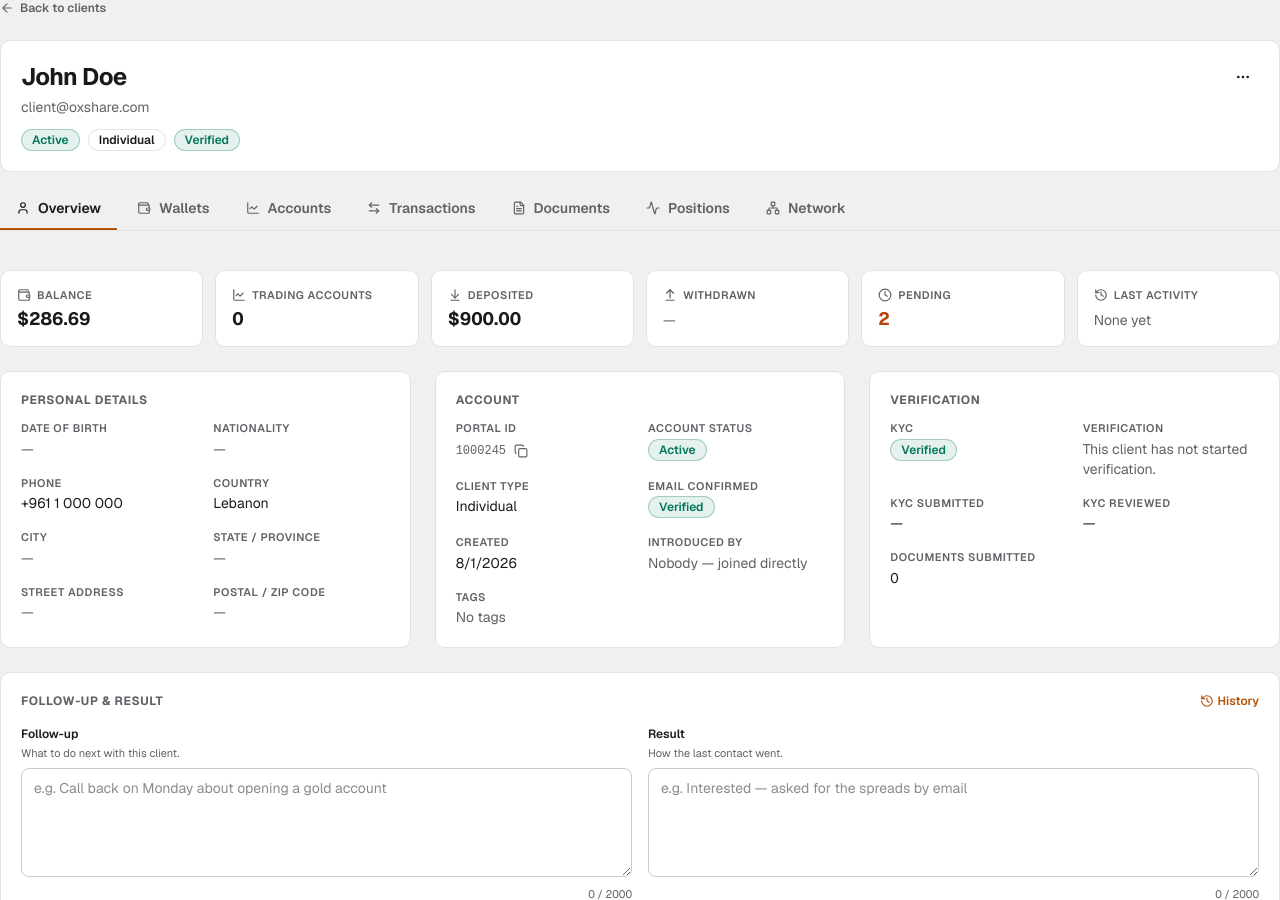
Scenario: CORE-18 on an ordinary client › opens the Edit profile dialog for a client who is NOT a partner
Check: the heading "John Doe" is shown, box [21,61,127,92]
Click the button named "actions for" at (1243, 77), box [1227,61,1259,93]
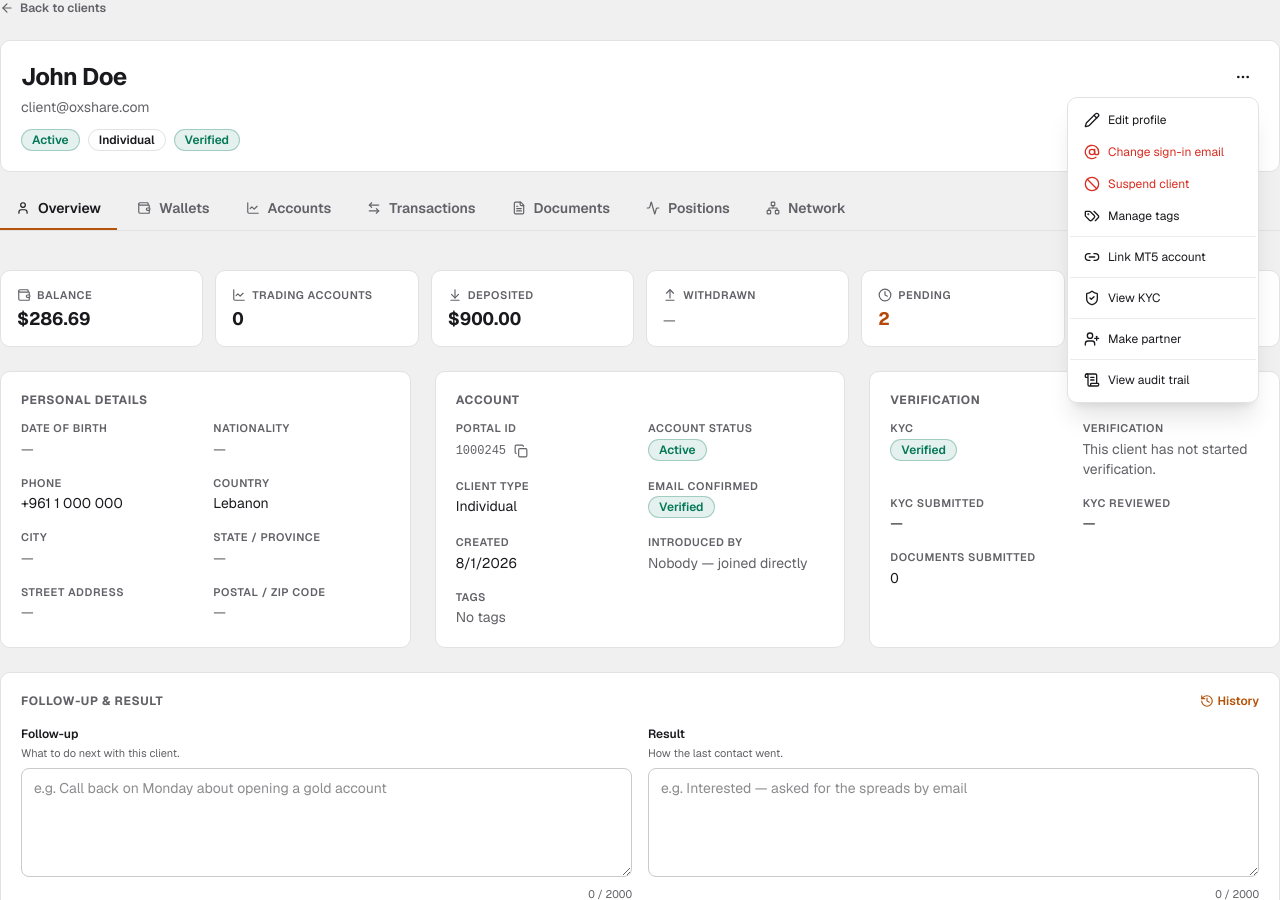
Click the menu item "Edit profile" at (1125, 120), box [1084,112,1167,128]
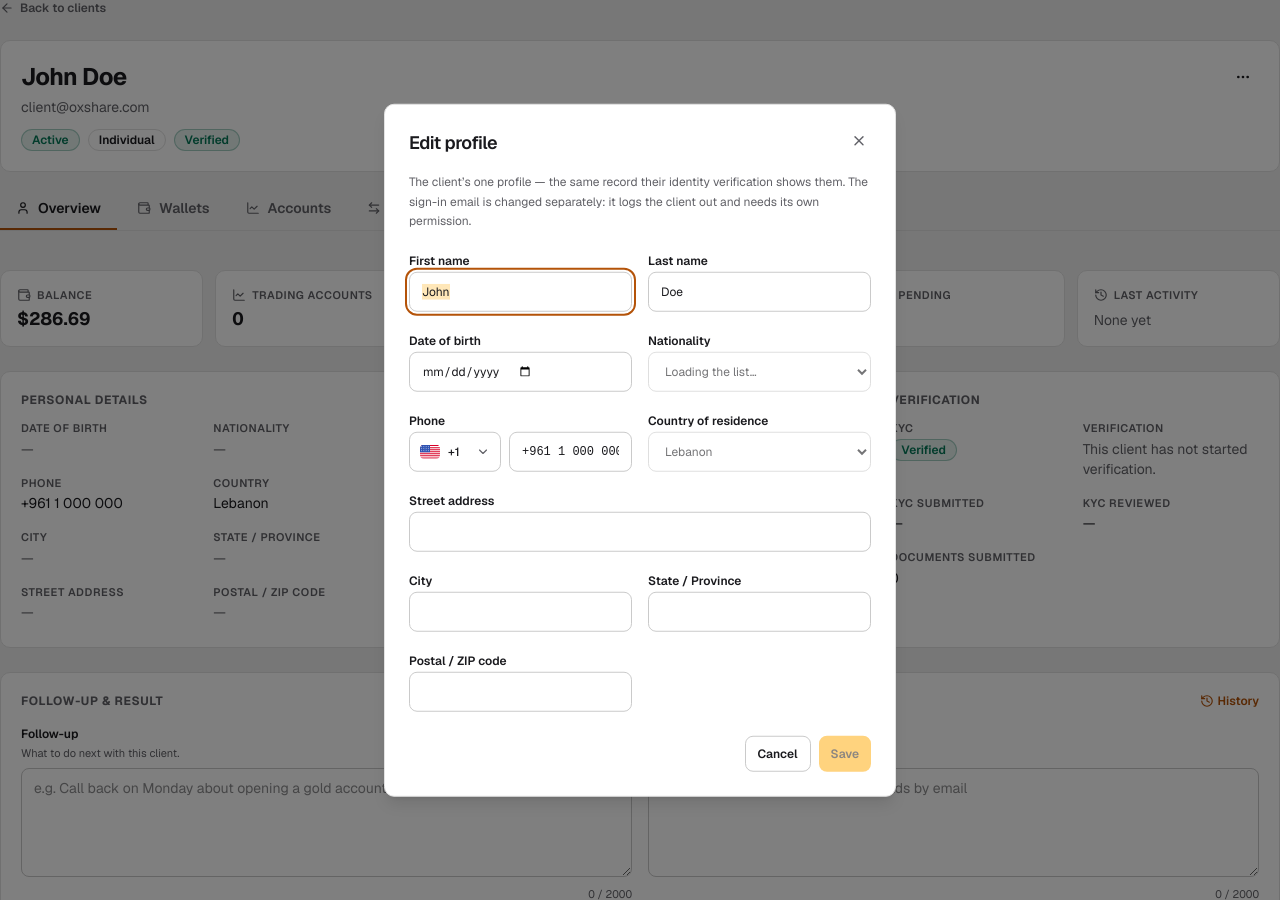
Check: the dialog is shown, box [384,104,896,796]
